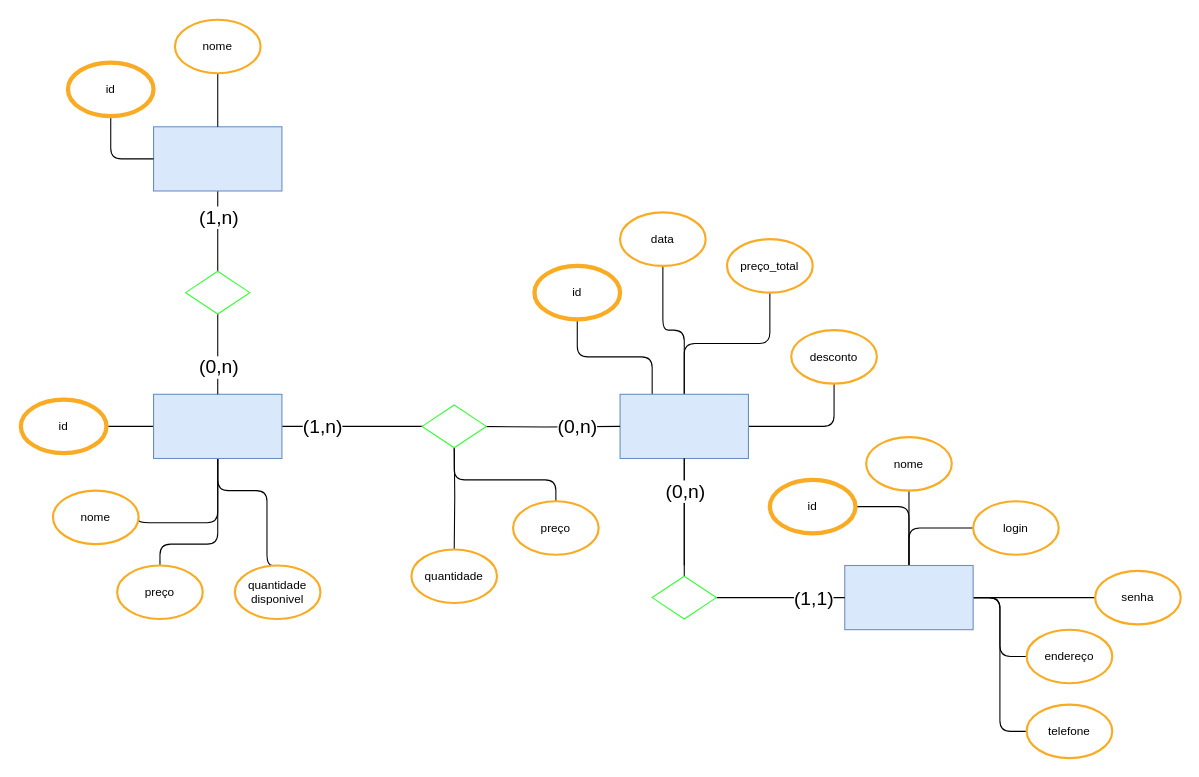
Image size: 1199x777. Some labels were removed from this diagram. The centre of each missing label's shape, as x and y in pixels:
"CATEGORIA" belongs at (x=217, y=158).
"FUNCIONARIO" belongs at (x=908, y=597).
"PRODUTO" belongs at (x=217, y=425).
"VENDA" belongs at (x=683, y=425).
